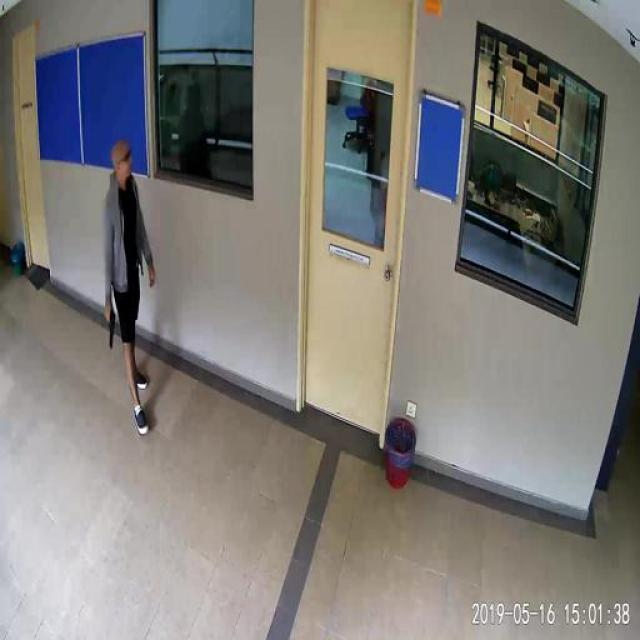Gun: (102, 306, 114, 346)
